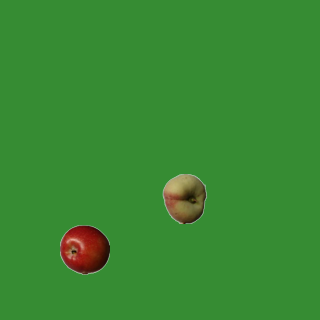Apple Braeburn: (59, 224, 109, 274)
Peach Flat: (159, 173, 209, 223)
